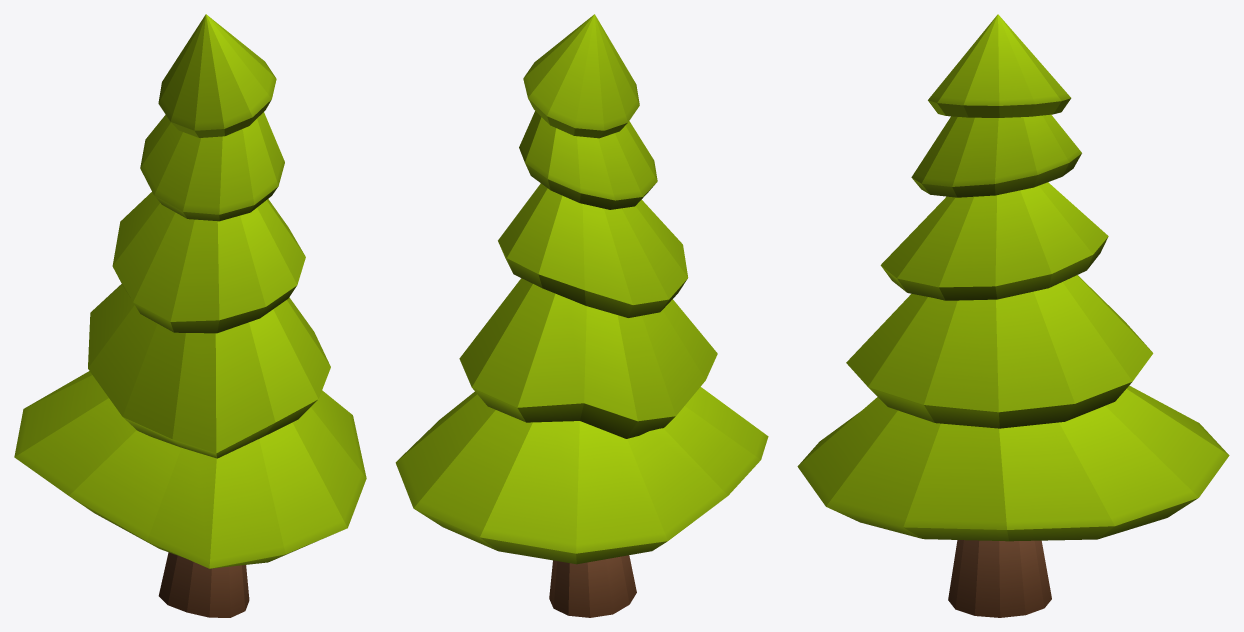
The model's file is Tree3.fbx.
3 views of the same model, side by side, from view 1: azimuth 30°, elevation 25°; view 2: azimuth 150°, elevation 25°; view 3: azimuth 270°, elevation 25° (orthographic).
Parts seen in each view (by area): view 1: Cube.043; view 2: Cube.043; view 3: Cube.043.
Part boxes in pixels (box(x1,y1,x2,y2)): Cube.043: box(14, 14, 366, 617); Cube.043: box(395, 14, 768, 617); Cube.043: box(797, 14, 1229, 617).
Size of the model in its own units: 1246 by 2429 by 1621.
Materials: 1 (1 with a texture image).
